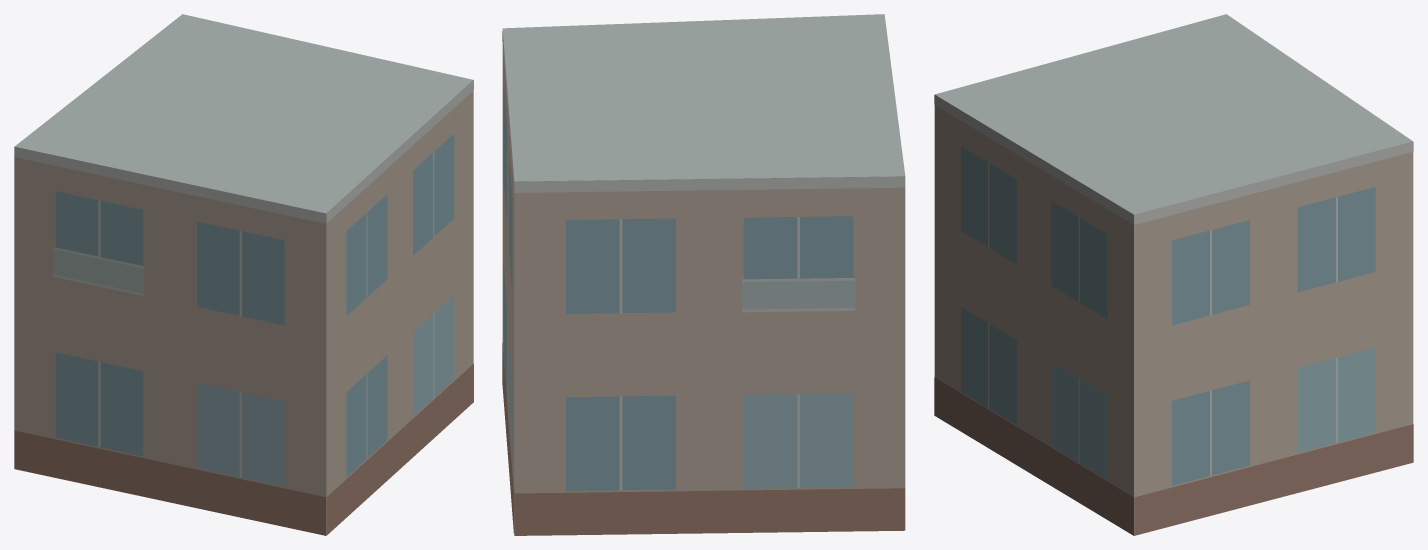
File: survey-upis-32923211.glb
3 renders of one model, left to right at view 1: azimuth 30°, elevation 25°; view 2: azimuth 150°, elevation 25°; view 3: azimuth 270°, elevation 25°, orthographic. The views are drawn at different scales.
Visible parts, largest first — view 1: survey-upis-32923211.tmp; view 2: survey-upis-32923211.tmp; view 3: survey-upis-32923211.tmp.
Boxes of the visible parts, x1,y1,x2,y2 form: survey-upis-32923211.tmp: (14,14,473,535); survey-upis-32923211.tmp: (502,14,905,535); survey-upis-32923211.tmp: (934,14,1413,535).
Bounding box in the file's own units: 10.2 × 7.6 × 10.28.
